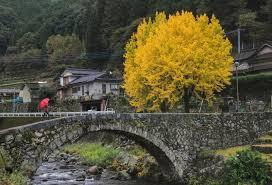tree: (132, 9, 234, 113)
